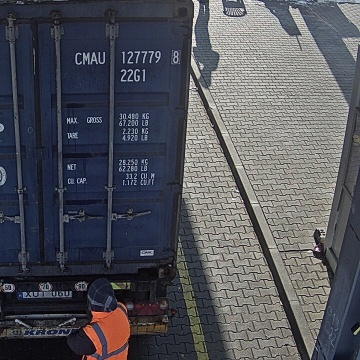serial_id: (75, 51, 179, 64)
